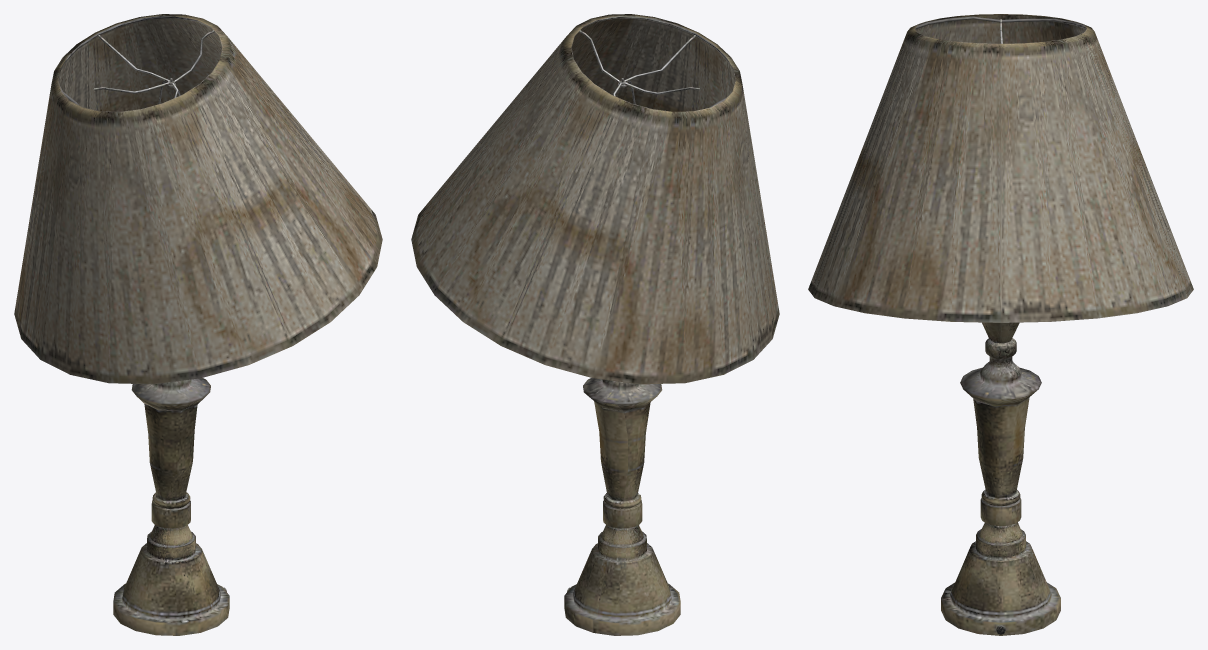
The model's file is Lamp.fbx.
The picture shows the model from 3 angles, left to right: view 1: azimuth 30°, elevation 25°; view 2: azimuth 150°, elevation 25°; view 3: azimuth 270°, elevation 25°; orthographic projection. The views are drawn at different scales.
Visible parts, largest first — view 1: LODGroup_1_MainMesh_1_SubMesh_1; view 2: LODGroup_1_MainMesh_1_SubMesh_1; view 3: LODGroup_1_MainMesh_1_SubMesh_1.
Boxes of the visible parts, bbox=[...] form: LODGroup_1_MainMesh_1_SubMesh_1: bbox=[14, 14, 382, 635]; LODGroup_1_MainMesh_1_SubMesh_1: bbox=[411, 14, 779, 635]; LODGroup_1_MainMesh_1_SubMesh_1: bbox=[808, 14, 1193, 635].
Bounding box in the file's own units: 29.67 × 51.51 × 30.72.
